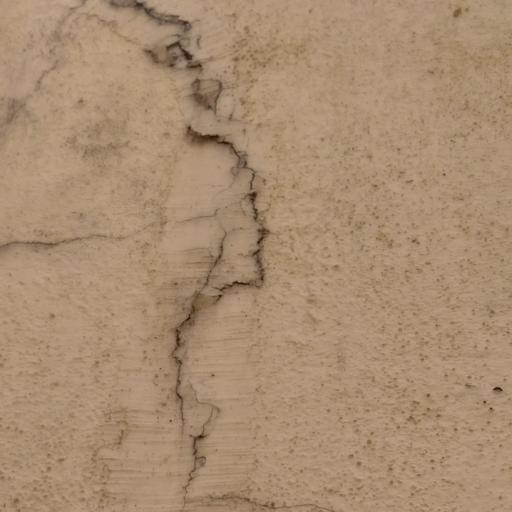major_crack: (109, 0, 276, 512)
